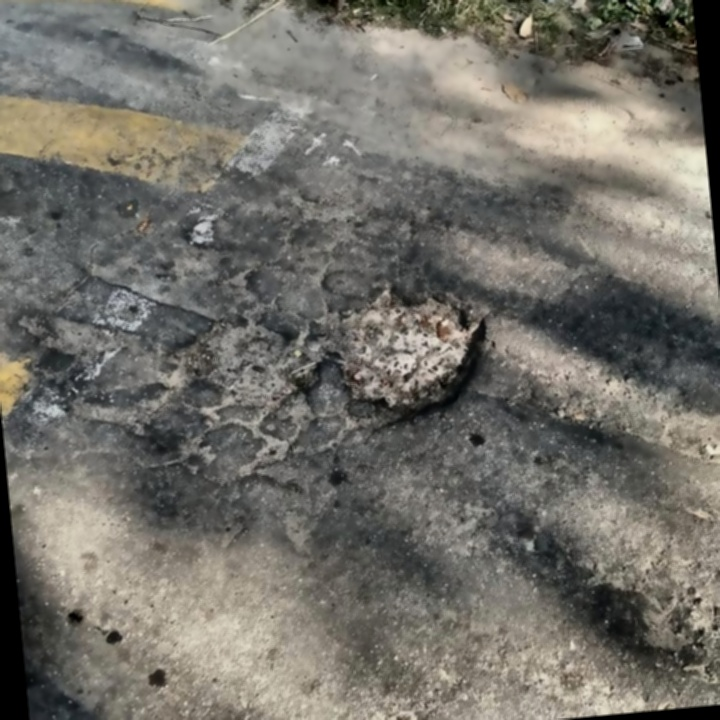pothole: (321, 277, 500, 430), (162, 307, 329, 422)
